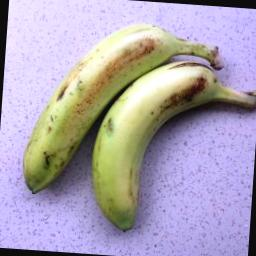Banana Ripe: (19, 13, 256, 235)
